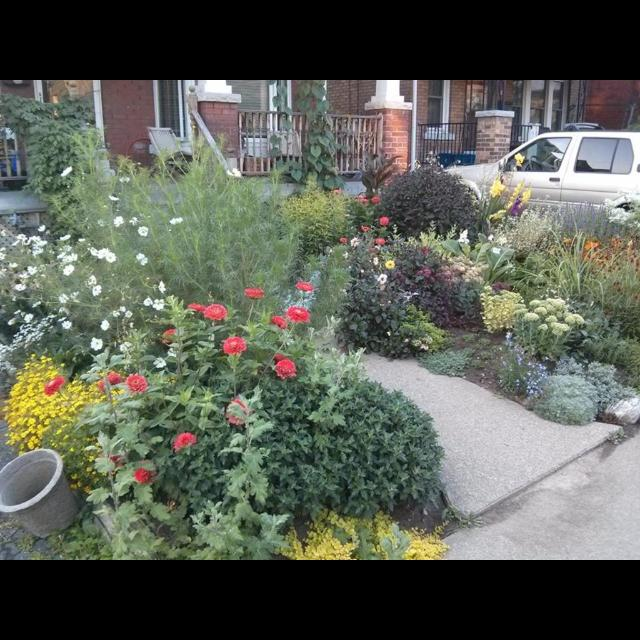Flower: (0, 194, 178, 446), (223, 395, 254, 427), (274, 356, 296, 379), (170, 431, 198, 449), (223, 336, 245, 358), (134, 464, 154, 486), (202, 302, 228, 316), (288, 306, 310, 322), (244, 286, 264, 300), (272, 316, 288, 330), (188, 302, 206, 314), (296, 280, 312, 292), (169, 212, 181, 224), (377, 272, 389, 284), (378, 214, 390, 226), (62, 165, 72, 178), (384, 260, 394, 270), (118, 174, 128, 183), (374, 235, 384, 243), (352, 234, 358, 246), (370, 195, 378, 202), (338, 236, 346, 242), (362, 224, 368, 232), (372, 256, 376, 266), (334, 188, 340, 194)
